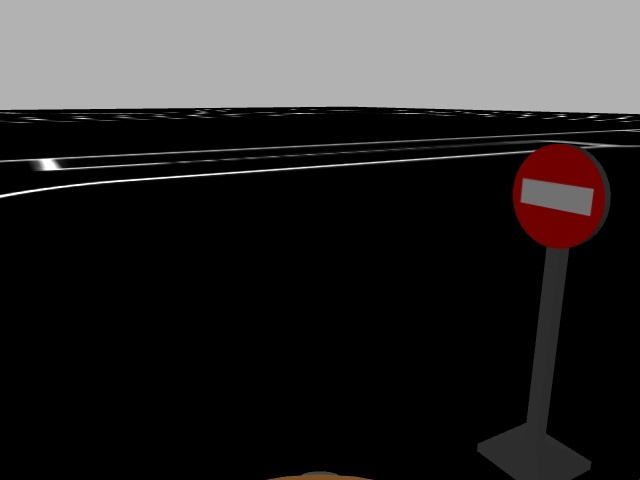prohibited: (507, 138, 614, 251)
